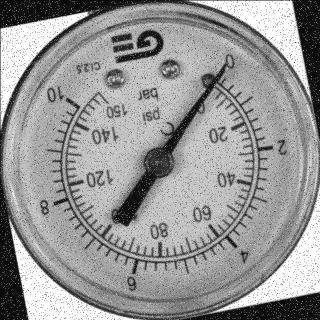gauge: (0, 0, 320, 320), (203, 52, 239, 90), (50, 79, 84, 117), (143, 147, 174, 179), (215, 54, 233, 76)
